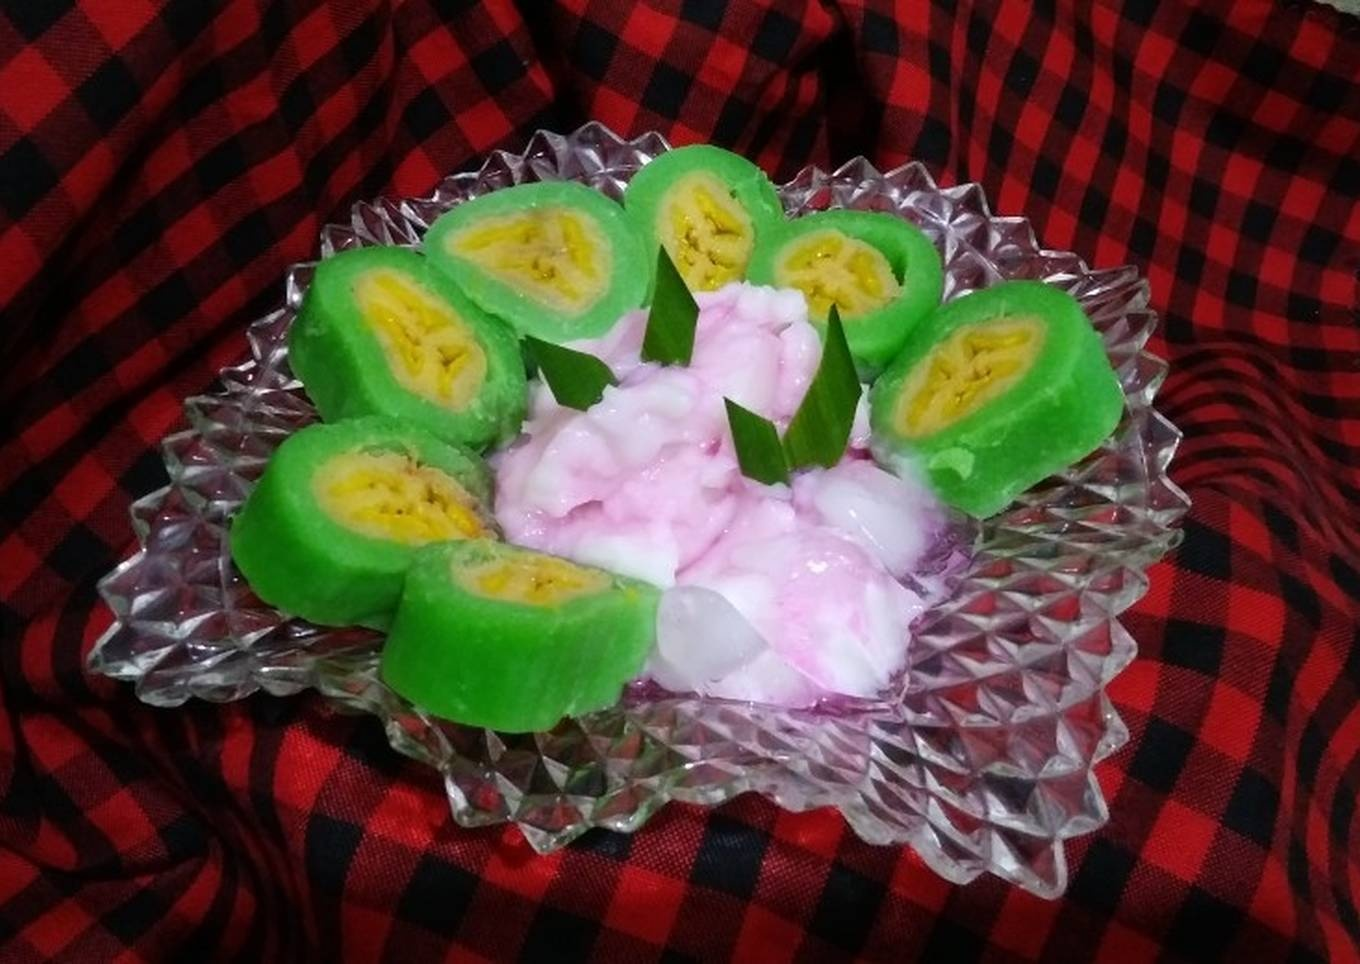pisang_ijo: (893, 271, 1132, 519), (412, 532, 704, 702)
